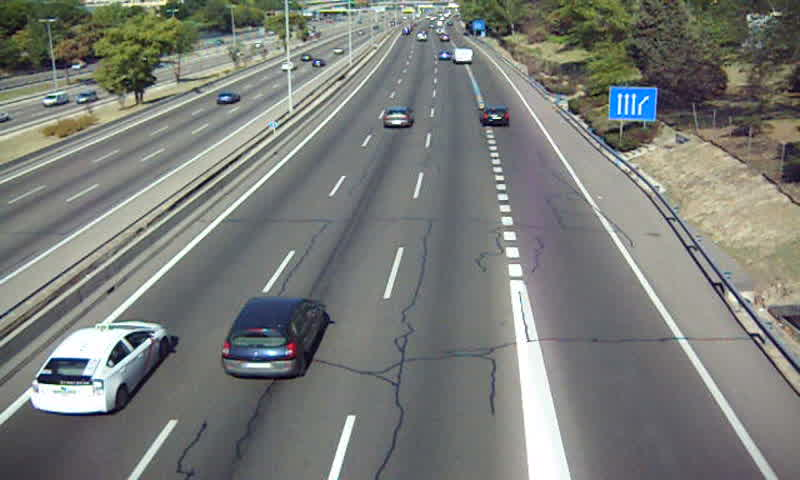car: (32, 322, 167, 413), (222, 297, 325, 379), (383, 106, 413, 129), (478, 106, 510, 126)
van: (451, 48, 474, 64)
